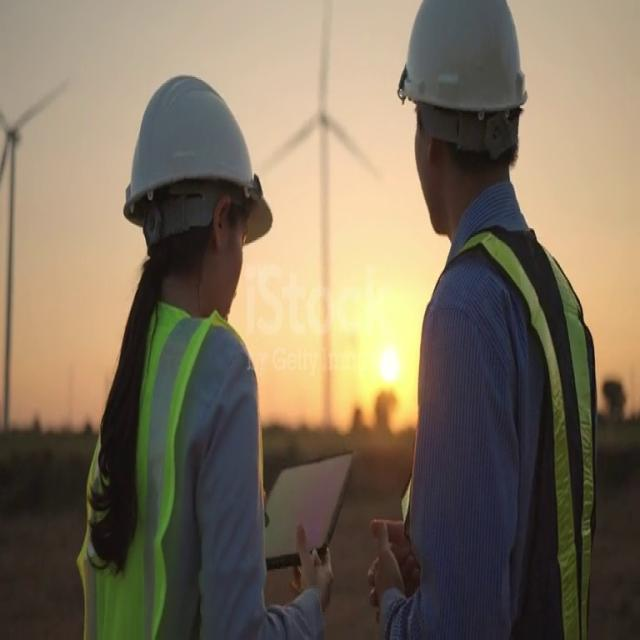capacete: (120, 61, 274, 262), (393, 0, 548, 171)
